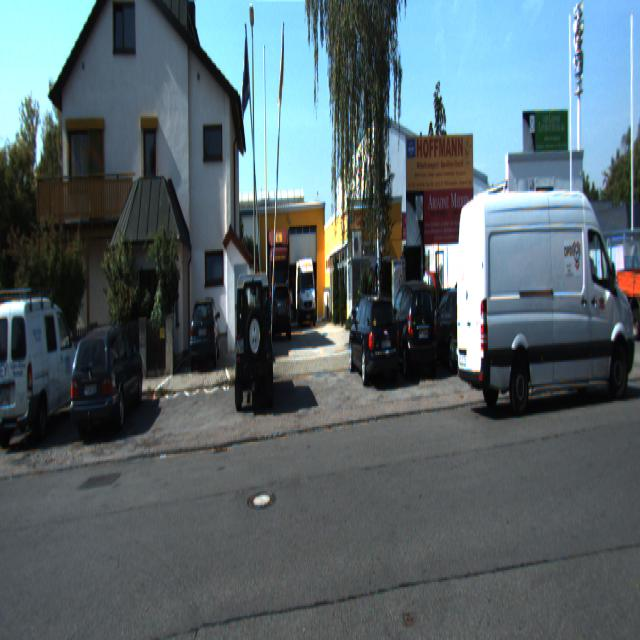Car: (452, 178, 637, 414), (0, 290, 86, 451), (72, 318, 146, 436), (384, 280, 441, 384), (423, 289, 490, 376), (233, 270, 273, 414), (347, 289, 402, 390), (0, 360, 47, 436), (614, 213, 640, 345), (190, 296, 222, 371), (268, 227, 290, 334), (294, 249, 316, 324), (273, 279, 292, 339)
